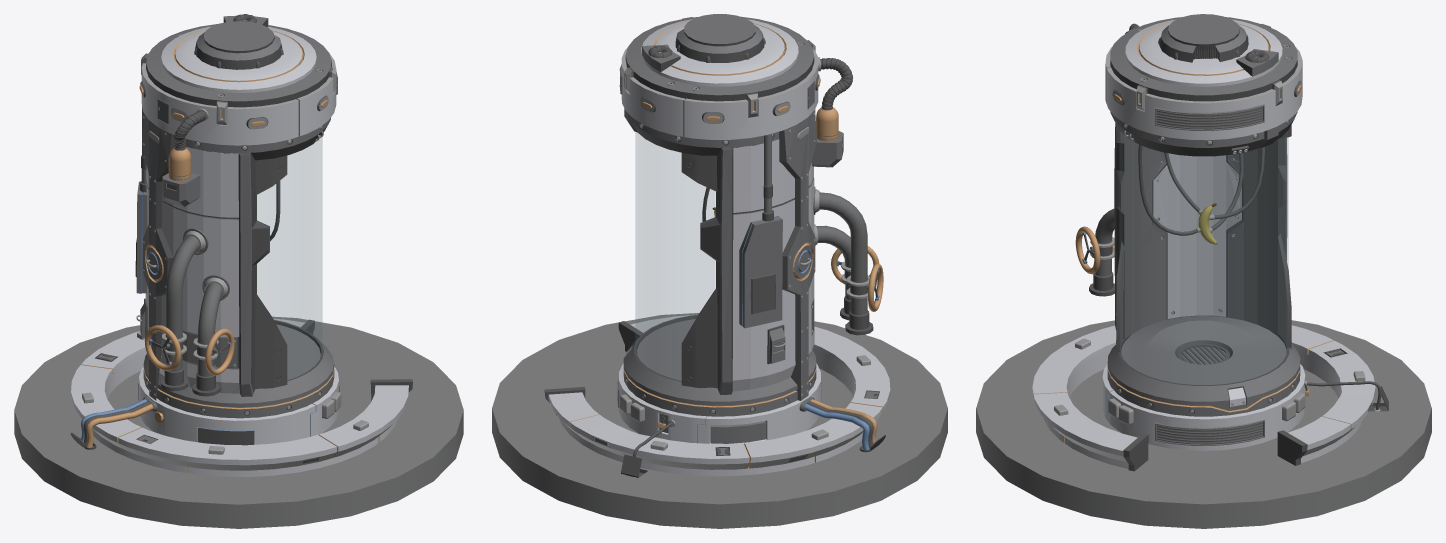
3 renders of one model, left to right at view 1: azimuth 30°, elevation 25°; view 2: azimuth 150°, elevation 25°; view 3: azimuth 270°, elevation 25°, orthographic.
Parts seen in each view (by area): view 1: polySurface2, Capsule:polySurface92, Capsule:polySurface81, Capsule:Glass, Capsule:polySurface106, Capsule:polySurface89, Capsule:polySurface115, Capsule:polySurface108, Capsule:polySurface91, Capsule:polySurface107, Capsule:pCylinder106, Capsule:polySurface94 (+8 smaller); view 2: polySurface2, Capsule:polySurface81, Capsule:polySurface92, Capsule:Glass, Capsule:polySurface89, Capsule:polySurface106, Capsule:polySurface91, Capsule:polySurface115, Capsule:polySurface108, Capsule:polySurface107, Capsule:polySurface94, Capsule:polySurface14 (+10 smaller); view 3: polySurface2, Capsule:polySurface92, Capsule:polySurface89, Capsule:polySurface81, Capsule:polySurface106, Capsule:polySurface108, Capsule:polySurface115, Capsule:polySurface107, Capsule:pCylinder106, Capsule:polySurface29 (×2), Capsule:polySurface104, Capsule:polySurface94 (+6 smaller).
Part boxes in pixels (x1=…): polySurface2: x1=14, y1=316, x2=463, y2=528; Capsule:polySurface92: x1=145, y1=146, x2=269, y2=396; Capsule:polySurface81: x1=71, y1=318, x2=408, y2=476; Capsule:Glass: x1=257, y1=137, x2=322, y2=349; Capsule:polySurface106: x1=141, y1=52, x2=336, y2=145; Capsule:polySurface89: x1=143, y1=319, x2=334, y2=418; Capsule:polySurface115: x1=138, y1=366, x2=338, y2=445; Capsule:polySurface108: x1=161, y1=15, x2=316, y2=92; Capsule:polySurface91: x1=142, y1=113, x2=174, y2=400; Capsule:polySurface107: x1=146, y1=24, x2=331, y2=107; Capsule:pCylinder106: x1=195, y1=21, x2=282, y2=69; Capsule:polySurface94: x1=255, y1=155, x2=287, y2=389; polySurface2: x1=492, y1=313, x2=947, y2=528; Capsule:polySurface81: x1=548, y1=314, x2=890, y2=476; Capsule:polySurface92: x1=700, y1=139, x2=814, y2=394; Capsule:Glass: x1=635, y1=132, x2=715, y2=345; Capsule:polySurface89: x1=623, y1=314, x2=816, y2=416; Capsule:polySurface106: x1=621, y1=47, x2=818, y2=139; Capsule:polySurface91: x1=779, y1=109, x2=816, y2=400; Capsule:polySurface115: x1=619, y1=363, x2=821, y2=444; Capsule:polySurface108: x1=641, y1=19, x2=798, y2=86; Capsule:polySurface107: x1=625, y1=16, x2=814, y2=101; Capsule:polySurface94: x1=681, y1=153, x2=717, y2=388; Capsule:polySurface14: x1=739, y1=216, x2=782, y2=328; polySurface2: x1=976, y1=320, x2=1431, y2=528; Capsule:polySurface92: x1=1114, y1=123, x2=1287, y2=338; Capsule:polySurface89: x1=1107, y1=315, x2=1300, y2=416; Capsule:polySurface81: x1=1032, y1=325, x2=1375, y2=469; Capsule:polySurface106: x1=1105, y1=46, x2=1302, y2=140; Capsule:polySurface108: x1=1125, y1=19, x2=1282, y2=86; Capsule:polySurface115: x1=1102, y1=364, x2=1305, y2=450; Capsule:polySurface107: x1=1110, y1=17, x2=1297, y2=101; Capsule:pCylinder106: x1=1159, y1=14, x2=1248, y2=62; Capsule:polySurface29 (×2): x1=1155, y1=104, x2=1264, y2=445; Capsule:polySurface104: x1=1110, y1=111, x2=1297, y2=156; Capsule:polySurface94: x1=1116, y1=124, x2=1291, y2=353.
Size of the model in its own units: 22.89 by 22.36 by 22.89.
